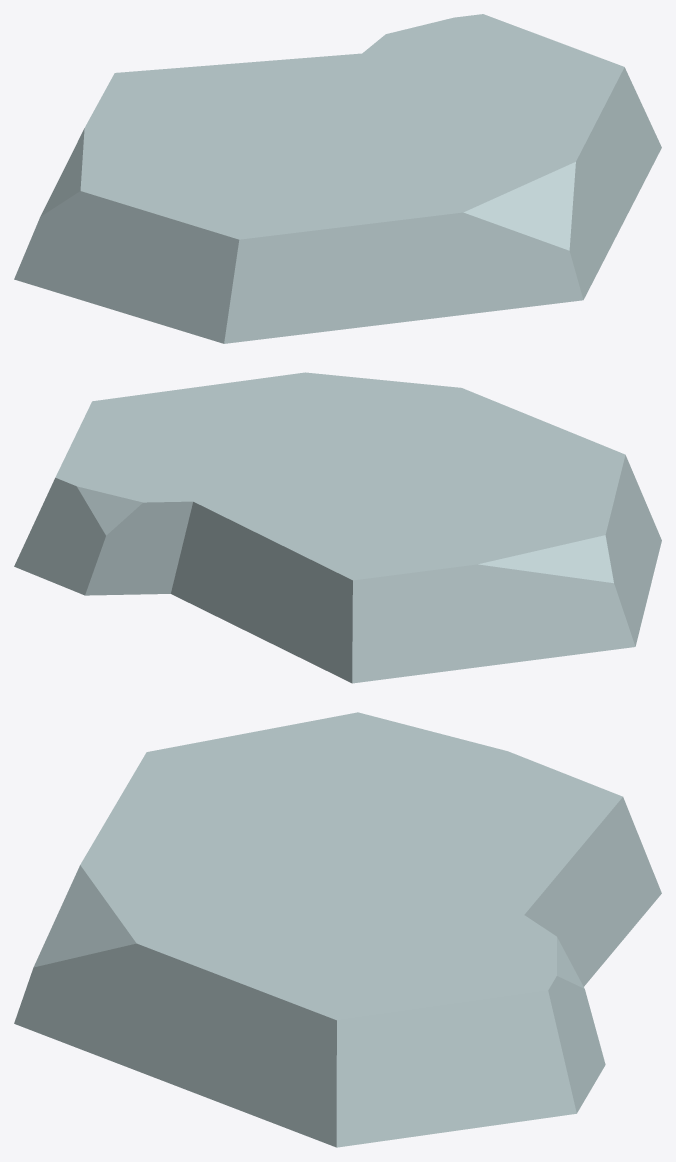
Rendered from stone_smallFlatC.glb.
The picture shows the model from 3 angles, top to bottom: view 1: azimuth 30°, elevation 25°; view 2: azimuth 150°, elevation 25°; view 3: azimuth 270°, elevation 25°; orthographic projection. The views are drawn at different scales.
Parts seen in each view (by area): view 1: stone_smallFlatC; view 2: stone_smallFlatC; view 3: stone_smallFlatC.
Boxes of the visible parts, box(x1,y1,x2,y2) form: stone_smallFlatC: box(14, 14, 661, 343); stone_smallFlatC: box(14, 372, 661, 683); stone_smallFlatC: box(14, 712, 661, 1147).
Size of the model in its own units: 0.4704 by 0.0649 by 0.3603.
